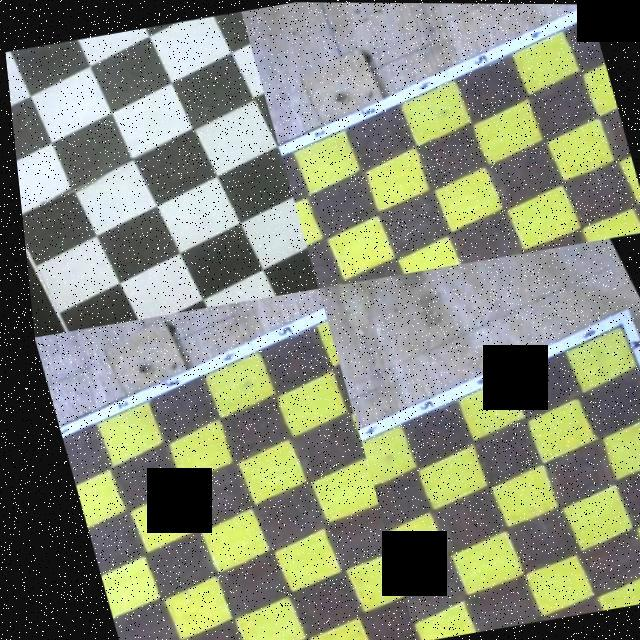chess-table-corners: (610, 325, 620, 332), (278, 162, 286, 170), (52, 440, 56, 446), (361, 482, 365, 487)
